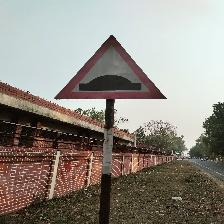Speed-breaker: (54, 35, 168, 99)
